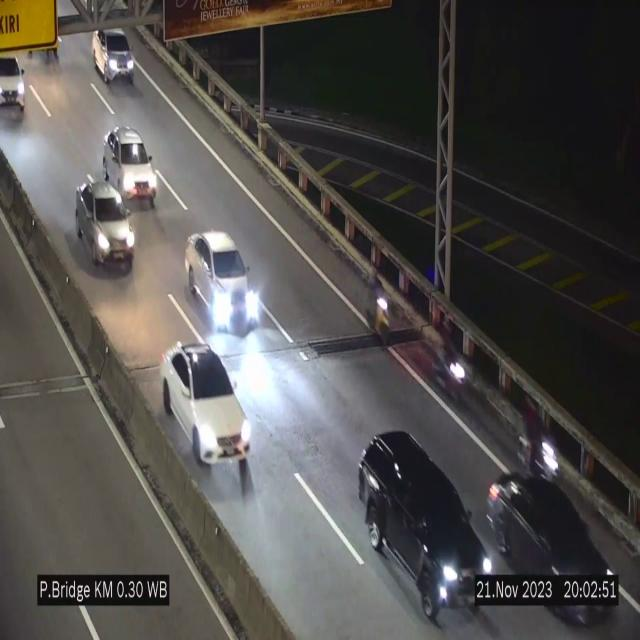Car: (356, 420, 488, 618), (162, 342, 250, 460), (182, 223, 264, 341), (75, 181, 135, 273), (102, 125, 156, 202), (92, 26, 136, 85)
Motorcycle: (519, 394, 563, 492), (435, 333, 473, 412), (365, 254, 389, 340)
